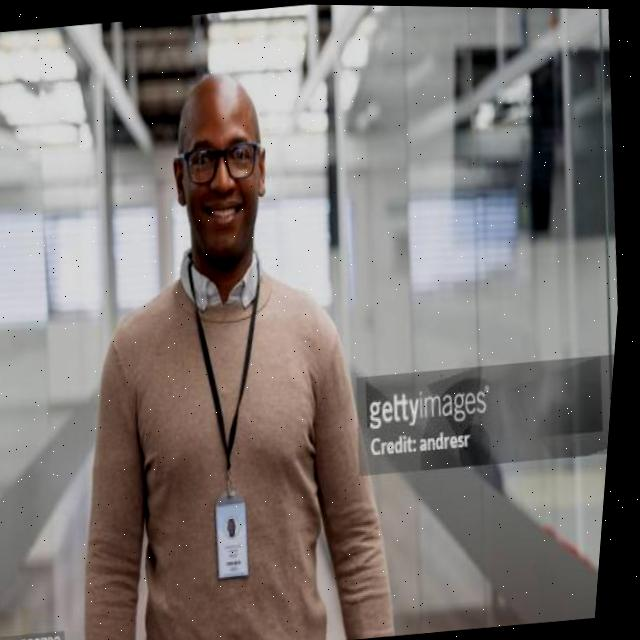id_card: (161, 244, 303, 590)
